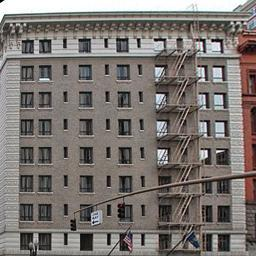building: (0, 10, 249, 256)
